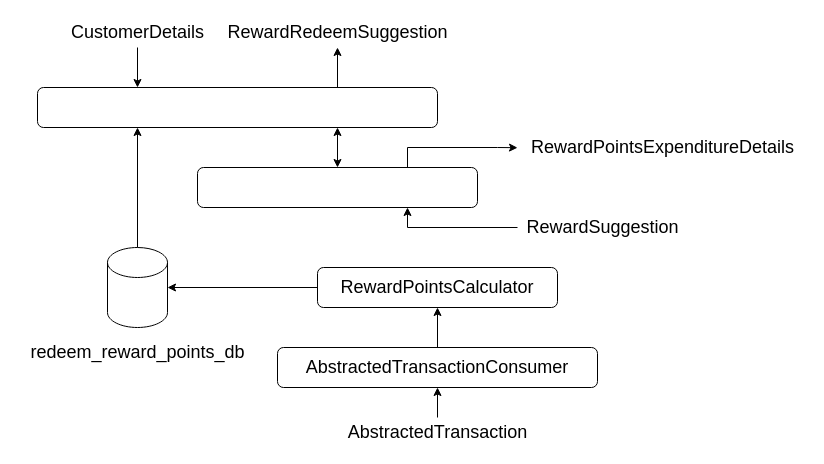
The diagram is 824 pixels wide and 464 high, and some of its shapes have lost their labels. Here are the shapes that lost their labels. From the top down, the centre of each, then its label:
point (237, 107): Controller
point (337, 187): RewardSuggestionRestService
